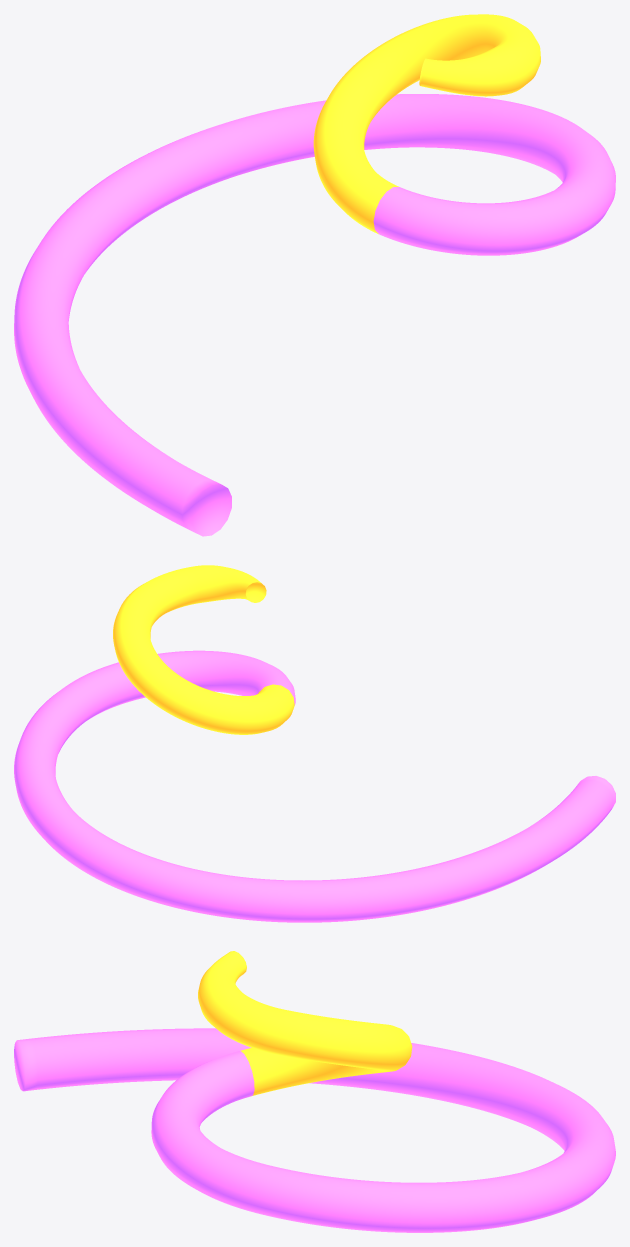
Rendered from xiphiacetus_noodle.glb.
3 renders of one model, top to bottom at view 1: azimuth 30°, elevation 25°; view 2: azimuth 150°, elevation 25°; view 3: azimuth 270°, elevation 25°, orthographic. The views are drawn at different scales.
Parts seen in each view (by area): view 1: Xiphiacetus | TURN COUNT NOODLE | T00_100, Xiphiacetus | TURN COUNT NOODLE | T100_200; view 2: Xiphiacetus | TURN COUNT NOODLE | T00_100, Xiphiacetus | TURN COUNT NOODLE | T100_200; view 3: Xiphiacetus | TURN COUNT NOODLE | T00_100, Xiphiacetus | TURN COUNT NOODLE | T100_200.
Part boxes in pixels (left/top/right/bottom): Xiphiacetus | TURN COUNT NOODLE | T00_100: left=14, top=94, right=615, bottom=536; Xiphiacetus | TURN COUNT NOODLE | T100_200: left=313, top=14, right=540, bottom=233; Xiphiacetus | TURN COUNT NOODLE | T00_100: left=14, top=650, right=615, bottom=922; Xiphiacetus | TURN COUNT NOODLE | T100_200: left=113, top=565, right=294, bottom=734; Xiphiacetus | TURN COUNT NOODLE | T00_100: left=14, top=1028, right=615, bottom=1232; Xiphiacetus | TURN COUNT NOODLE | T100_200: left=198, top=951, right=412, bottom=1096.
Bounding box in the file's own units: 7.64 × 3.85 × 7.33.
